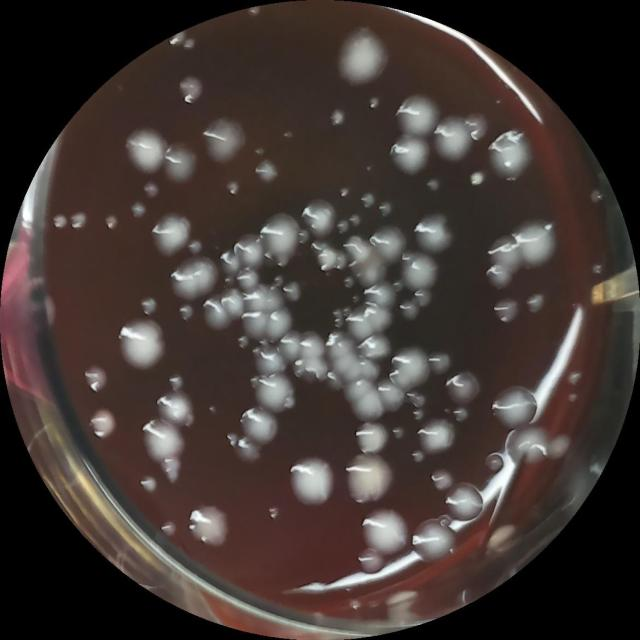Acinetobacter: (359, 506, 412, 560), (116, 318, 168, 373), (486, 127, 534, 183), (138, 418, 188, 468), (169, 254, 220, 303), (288, 456, 336, 507), (201, 116, 248, 167), (124, 126, 170, 177), (396, 94, 444, 142), (434, 112, 478, 164), (261, 211, 304, 263), (388, 131, 433, 179), (414, 212, 458, 261), (151, 210, 194, 259), (398, 249, 441, 297), (252, 374, 297, 418), (445, 482, 489, 527), (391, 344, 433, 391), (300, 197, 340, 242), (371, 223, 410, 268), (240, 405, 280, 447), (160, 143, 199, 183), (419, 418, 457, 458), (233, 231, 269, 272), (364, 280, 398, 313), (346, 307, 377, 343), (254, 159, 281, 188)
Staphylococcus: (469, 168, 486, 187)
